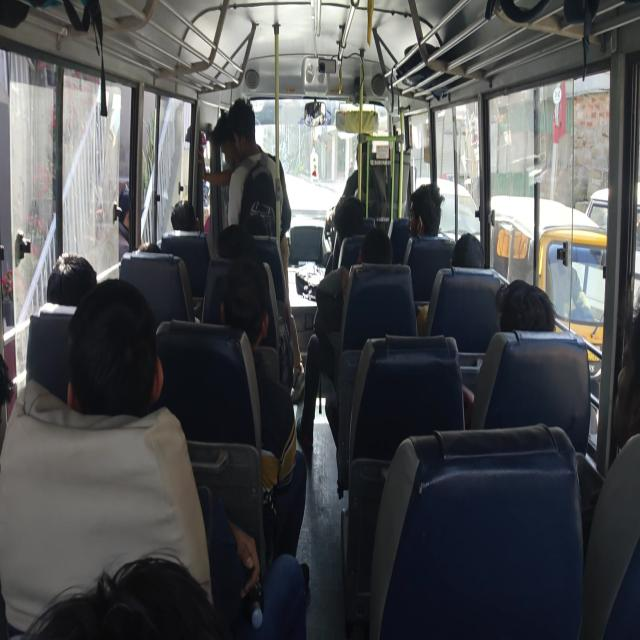person: (87, 284, 196, 497), (56, 520, 211, 640), (594, 317, 640, 554), (215, 253, 267, 349), (488, 282, 551, 359), (227, 88, 273, 169), (35, 252, 89, 320), (336, 187, 383, 250), (212, 111, 256, 173), (362, 230, 407, 287), (445, 230, 499, 273), (225, 220, 264, 277), (408, 194, 448, 245), (125, 228, 162, 269), (170, 193, 202, 233), (243, 196, 283, 227)
